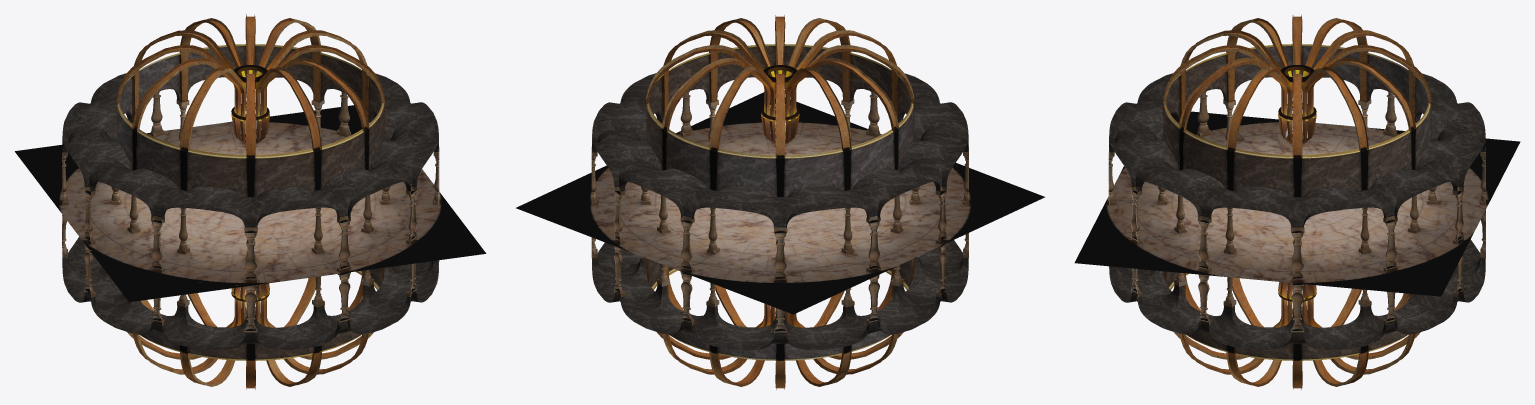
The model's file is GalleryRound_flatfloor.fbx.
The picture shows the model from 3 angles, left to right: view 1: azimuth 30°, elevation 25°; view 2: azimuth 150°, elevation 25°; view 3: azimuth 270°, elevation 25°; orthographic projection.
Parts seen in each view (by area): view 1: Arc, Floor, Rings; view 2: Arc, Floor, Rings; view 3: Arc, Floor, Rings.
Boxes of the visible parts, x1=… form: Arc: x1=62, y1=14, x2=439, y2=389; Floor: x1=15, y1=105, x2=486, y2=302; Rings: x1=231, y1=65, x2=269, y2=301; Arc: x1=591, y1=15, x2=968, y2=389; Floor: x1=516, y1=92, x2=1045, y2=314; Rings: x1=761, y1=65, x2=799, y2=120; Arc: x1=1108, y1=14, x2=1485, y2=389; Floor: x1=1074, y1=111, x2=1520, y2=296; Rings: x1=1278, y1=65, x2=1316, y2=301.
Size of the model in its own units: 87.48 by 67.41 by 87.48.
